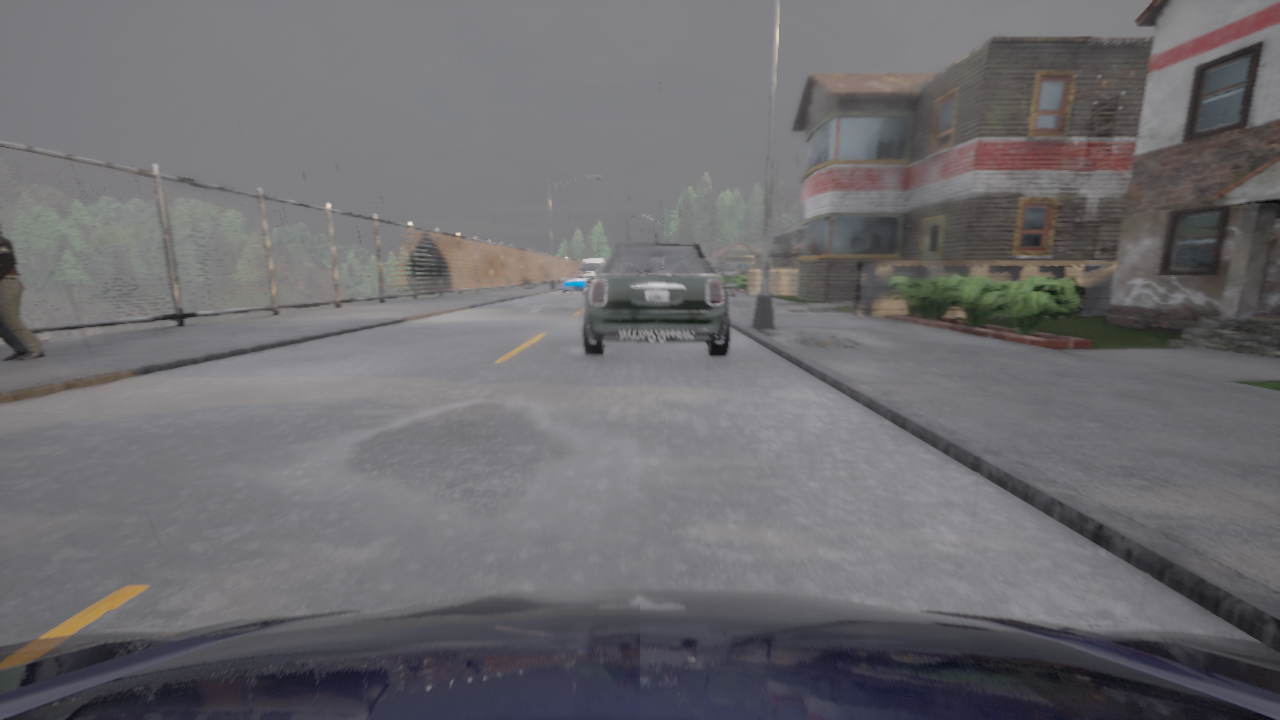cyclist: (0, 588, 1279, 719), (583, 233, 730, 356), (577, 258, 604, 287), (562, 271, 586, 293)
